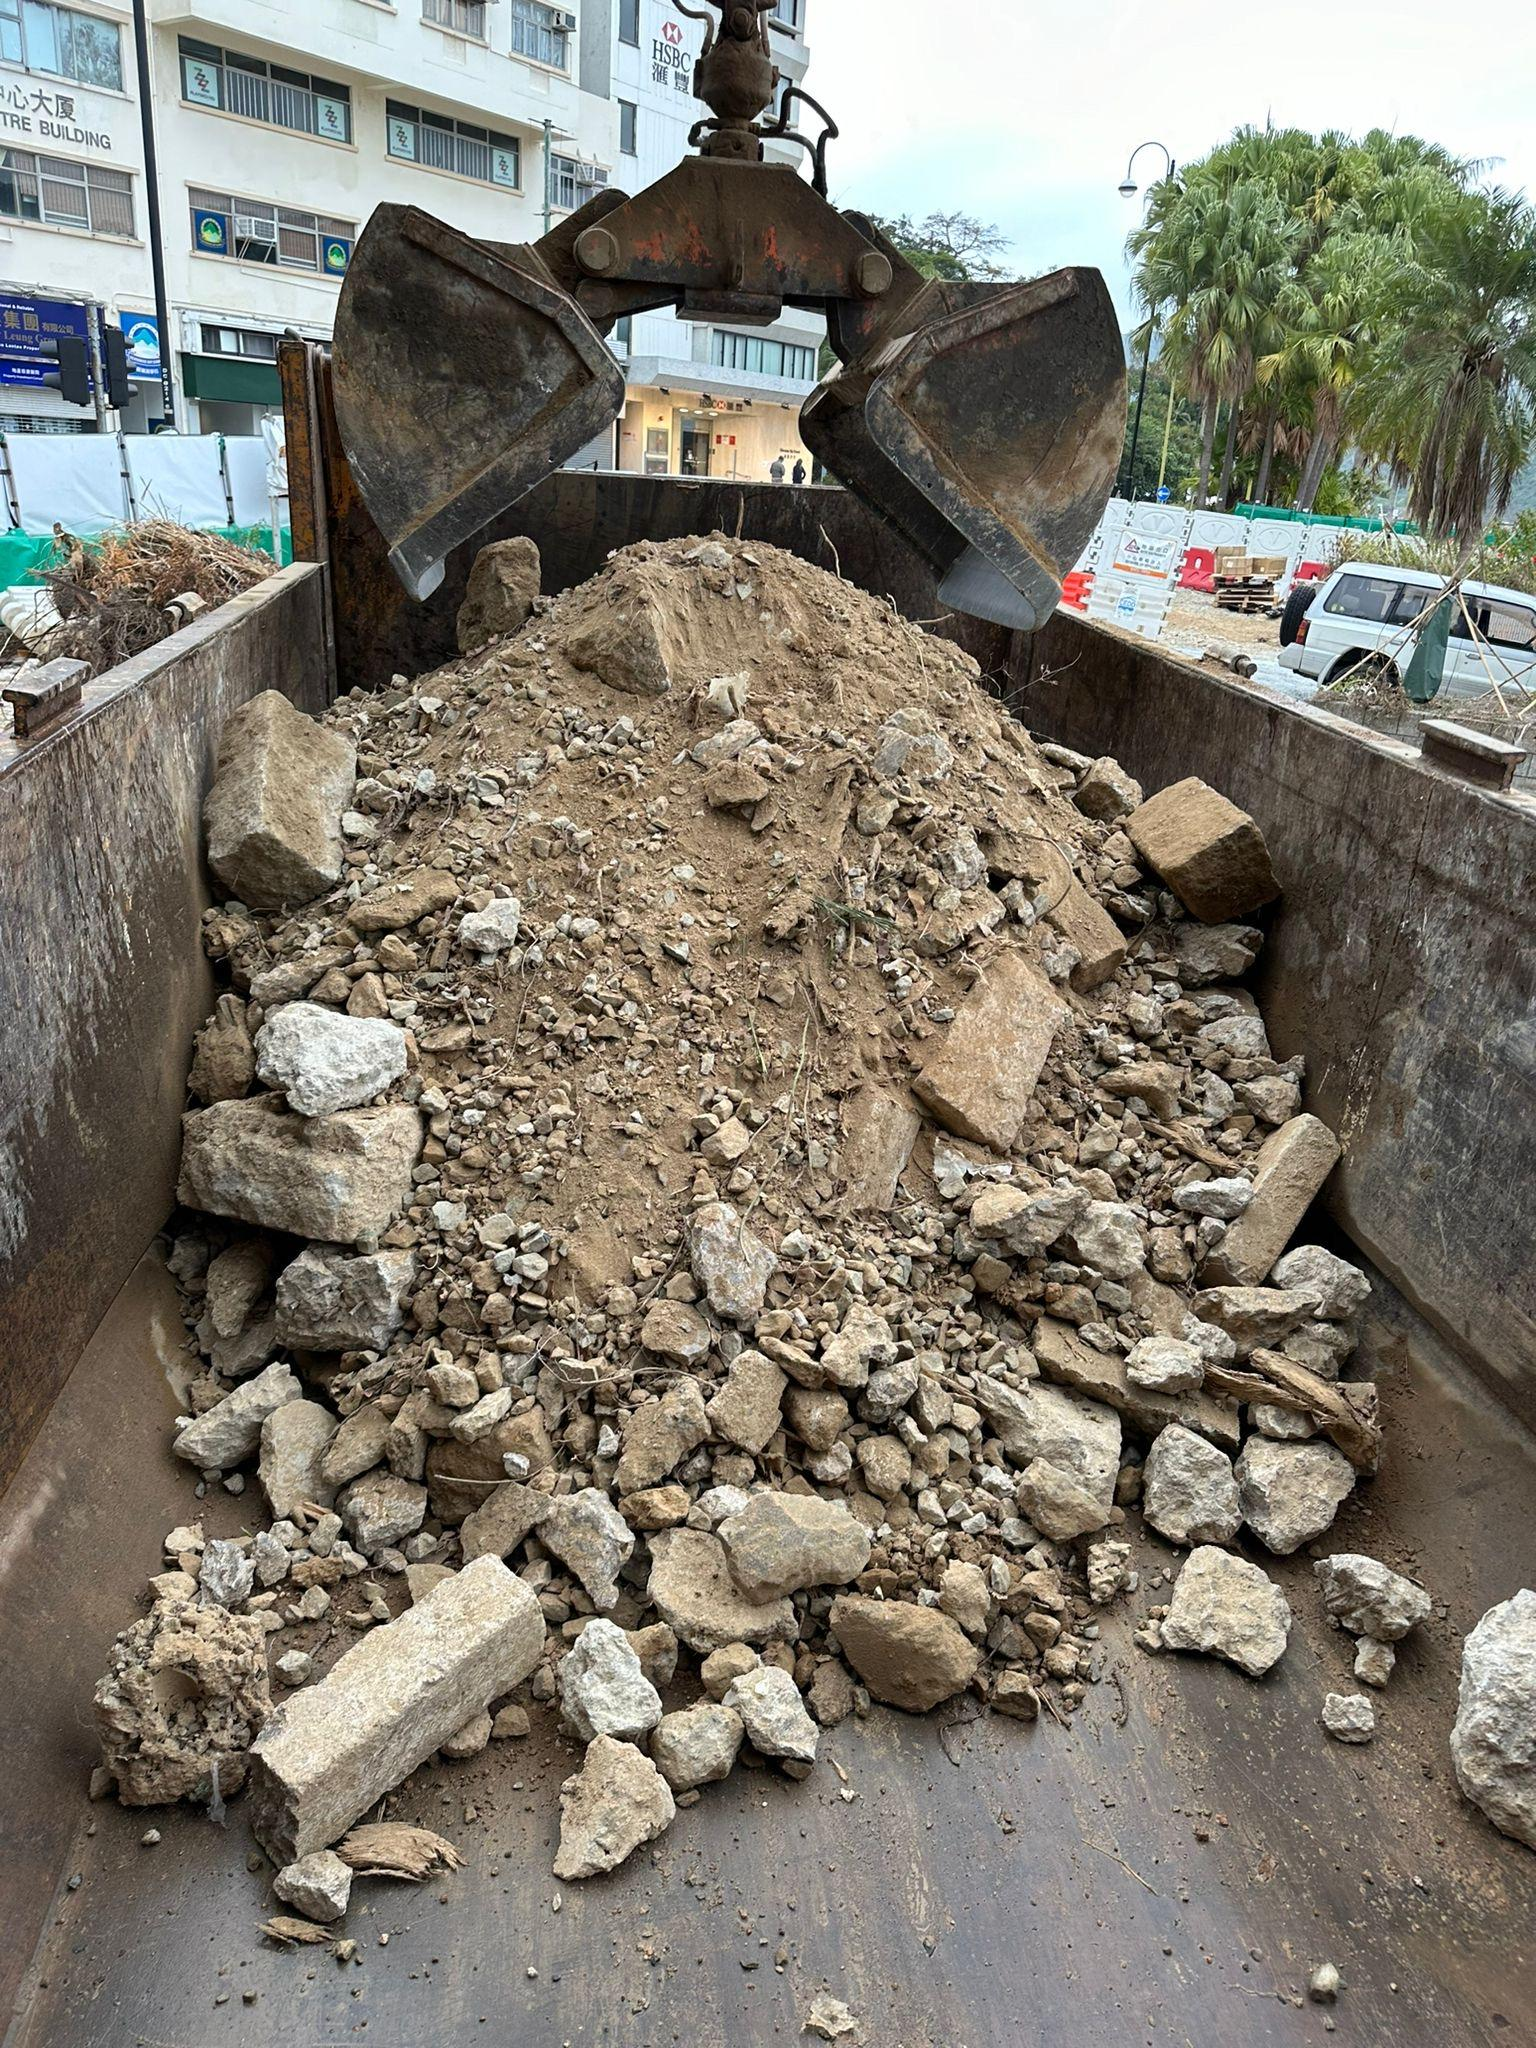dry: (153, 533, 1253, 1770)
